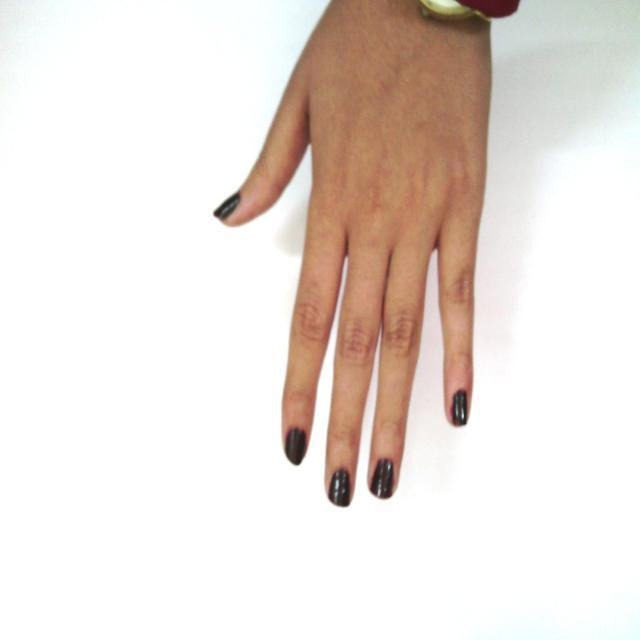Fingernail: (372, 460, 393, 499), (329, 469, 350, 507), (287, 428, 305, 465), (214, 193, 239, 219), (452, 390, 468, 426)
